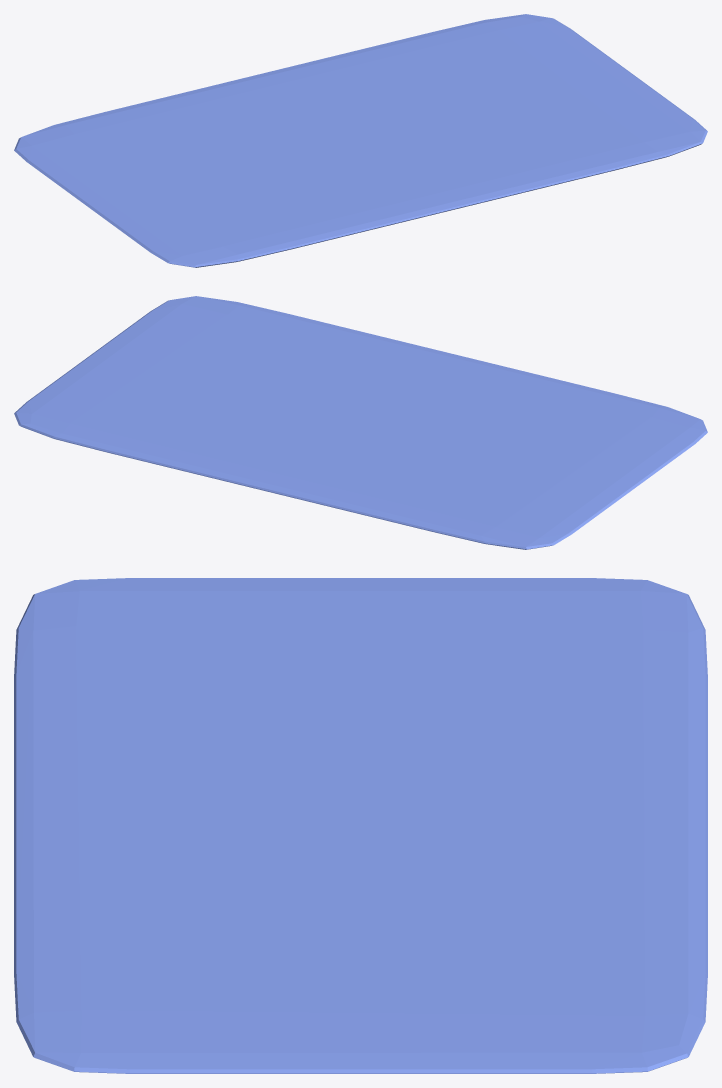
The model's file is TableCloth.fbx.
3 renders of one model, top to bottom at view 1: azimuth 30°, elevation 25°; view 2: azimuth 150°, elevation 25°; view 3: azimuth 270°, elevation 25°, orthographic. The views are drawn at different scales.
Visible parts, largest first — view 1: TableClothLowPoly; view 2: TableClothLowPoly; view 3: TableClothLowPoly.
Boxes of the visible parts, x1,y1,x2,y2 form: TableClothLowPoly: [14, 14, 707, 267]; TableClothLowPoly: [14, 296, 707, 549]; TableClothLowPoly: [14, 578, 707, 1073].
Bounding box in the file's own units: 50.67 × 0.4672 × 30.
